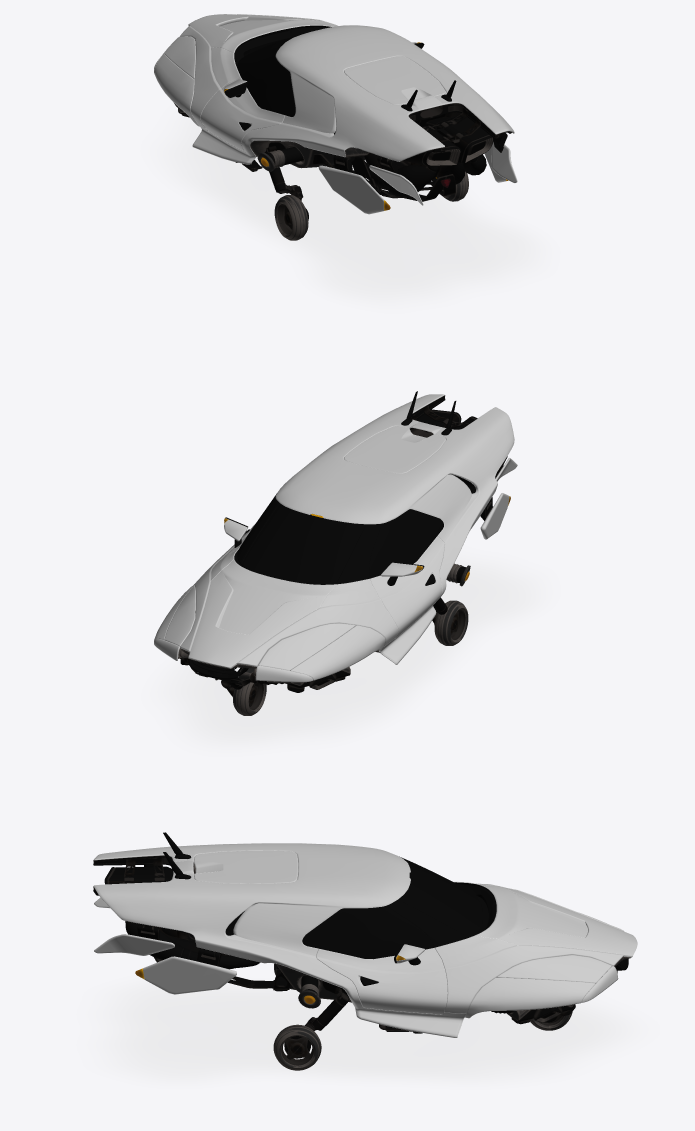
The model's file is hover.glb.
3 views of the same model, one above another, from view 1: azimuth 30°, elevation 25°; view 2: azimuth 150°, elevation 25°; view 3: azimuth 270°, elevation 25° (orthographic). The views are drawn at different scales.
Parts seen in each view (by area): view 1: Plane.005_0_part_111, car.019_0_part_74, car.019_1_part_75, car.018_1_part_71, car.018_0_part_70, car.001_1_part_68, car.001_0_part_67, Cylinder.016_0_part_60, Cube.005_0_part_1, Cylinder.015_2_part_33, Cylinder.015_1_part_32, Cylinder.001_1_part_4 (+12 smaller); view 2: car.019_0_part_74, car.019_1_part_75, Plane.005_0_part_111, car.001_1_part_68, car.001_0_part_67, car.002_0_part_17, car.018_1_part_71, car.018_0_part_70, Cylinder.001_1_part_4, Cylinder.001_0_part_3, Plane.004_1_part_42, Plane.004_0_part_41 (+5 smaller); view 3: car.019_0_part_74, car.019_1_part_75, Plane.005_0_part_111, car.001_1_part_68, car.001_0_part_67, car.002_0_part_17, Cylinder.026_1_part_98, car.018_1_part_71, Cylinder.026_0_part_97, car.018_0_part_70, Cylinder.014_2_part_106, Cylinder.014_1_part_105 (+15 smaller).
Boxes of the visible parts, x1=… form: Plane.005_0_part_111: x1=160, y1=116, x2=542, y2=304; car.019_0_part_74: x1=181, y1=23, x2=513, y2=163; car.019_1_part_75: x1=180, y1=14, x2=514, y2=164; car.018_1_part_71: x1=344, y1=56, x2=445, y2=104; car.018_0_part_70: x1=344, y1=57, x2=445, y2=104; car.001_1_part_68: x1=188, y1=14, x2=333, y2=52; car.001_0_part_67: x1=189, y1=15, x2=332, y2=52; Cylinder.016_0_part_60: x1=361, y1=152, x2=486, y2=196; Cube.005_0_part_1: x1=403, y1=116, x2=493, y2=166; Cylinder.015_2_part_33: x1=318, y1=165, x2=384, y2=214; Cylinder.015_1_part_32: x1=319, y1=166, x2=383, y2=213; Cylinder.001_1_part_4: x1=154, y1=54, x2=199, y2=126; car.019_0_part_74: x1=181, y1=391, x2=513, y2=679; car.019_1_part_75: x1=180, y1=394, x2=514, y2=666; Plane.005_0_part_111: x1=160, y1=555, x2=543, y2=748; car.001_1_part_68: x1=188, y1=559, x2=336, y2=668; car.001_0_part_67: x1=189, y1=560, x2=335, y2=667; car.002_0_part_17: x1=241, y1=503, x2=365, y2=584; car.018_1_part_71: x1=344, y1=426, x2=445, y2=473; car.018_0_part_70: x1=344, y1=427, x2=445, y2=472; Cylinder.001_1_part_4: x1=290, y1=625, x2=385, y2=680; Cylinder.001_0_part_3: x1=291, y1=626, x2=384, y2=679; Plane.004_1_part_42: x1=258, y1=623, x2=355, y2=670; Plane.004_0_part_41: x1=259, y1=624, x2=355, y2=669; car.019_0_part_74: x1=94, y1=832, x2=628, y2=1037; car.019_1_part_75: x1=93, y1=843, x2=624, y2=1037; Plane.005_0_part_111: x1=99, y1=981, x2=636, y2=1083; car.001_1_part_68: x1=475, y1=883, x2=637, y2=957; car.001_0_part_67: x1=476, y1=884, x2=636, y2=956; car.002_0_part_17: x1=398, y1=857, x2=483, y2=937; Cylinder.026_1_part_98: x1=464, y1=977, x2=595, y2=1018; car.018_1_part_71: x1=193, y1=850, x2=298, y2=883; Cylinder.026_0_part_97: x1=465, y1=978, x2=594, y2=1017; car.018_0_part_70: x1=194, y1=851, x2=297, y2=883; Cylinder.014_2_part_106: x1=143, y1=956, x2=236, y2=994; Cylinder.014_1_part_105: x1=143, y1=957, x2=236, y2=993.
Size of what is drawn, in the model's own units: 2.8 by 1.42 by 4.56.
Materials: 7 (5 with a texture image).
